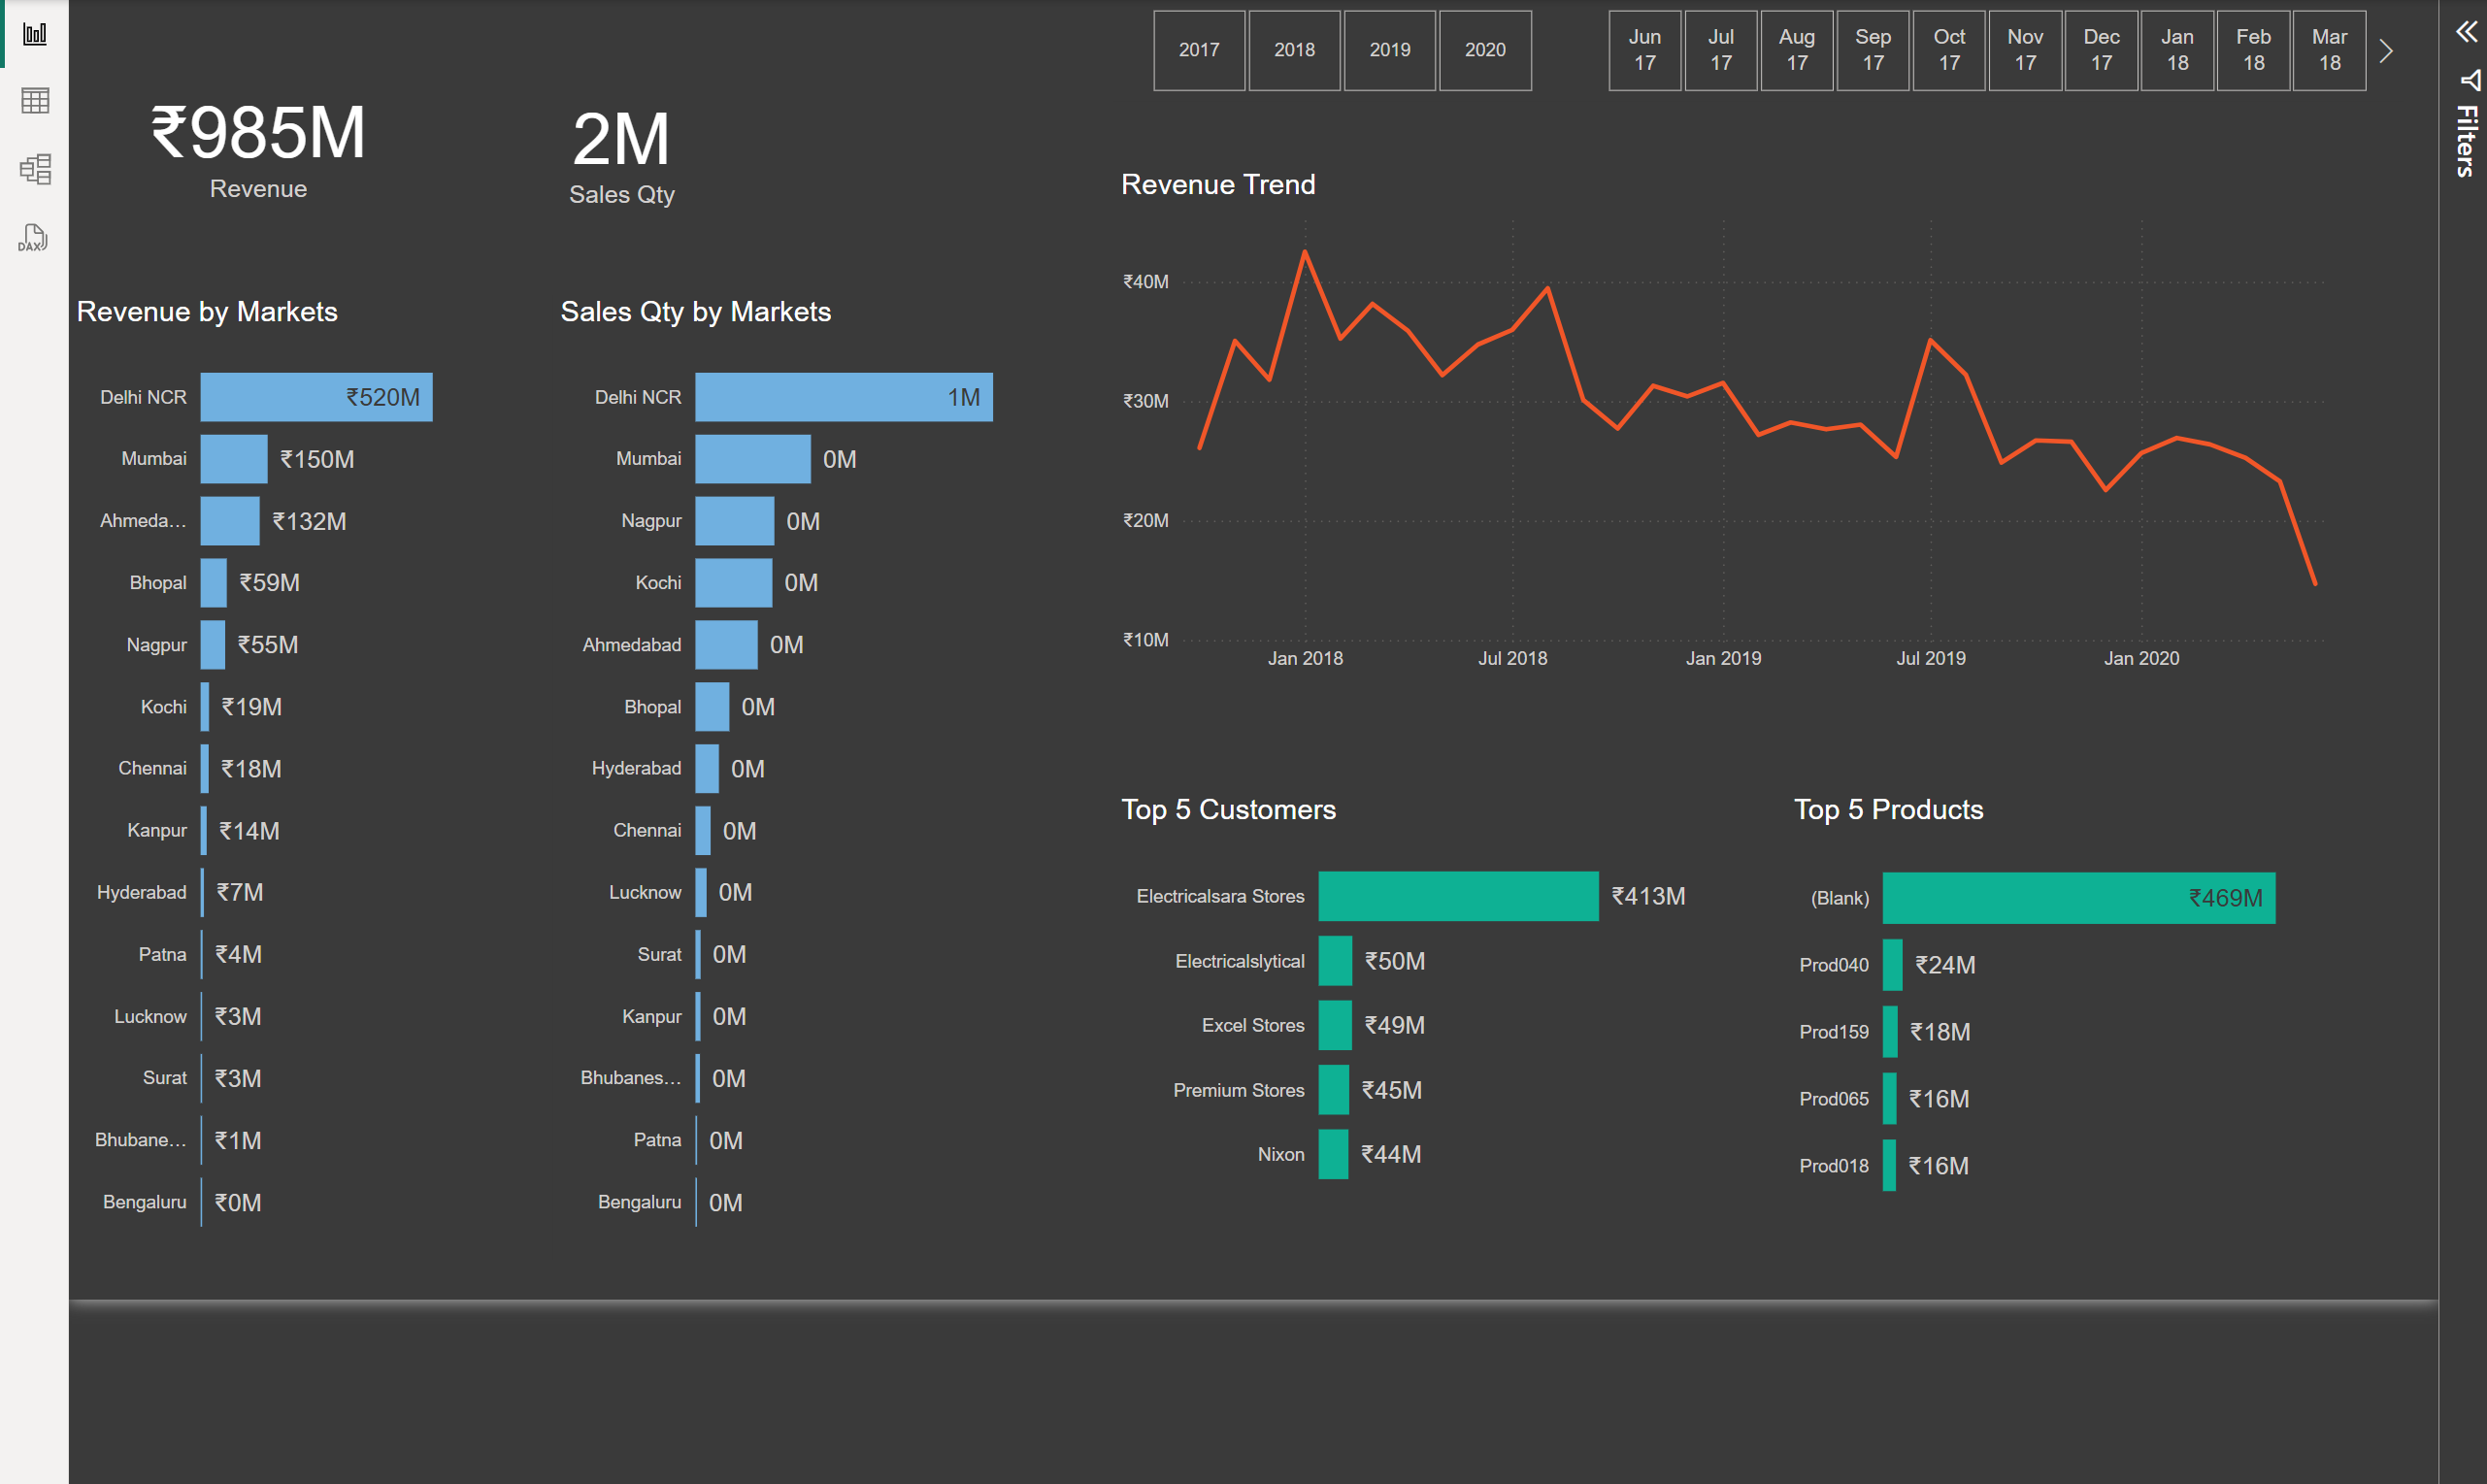

The dashboard page shown, as its layout file describes it:
{"tool":"powerbi","page":{"name":"Key Insights","canvas":[1550,850],"ordinal":0},"visuals":[{"type":"card","fields":{"Values":["BaseMeasures (2).Revenue"]},"box":[0,0,247.9,184.6],"z":0},{"type":"card","fields":{"Values":["BaseMeasures (2).Sales Qty"]},"box":[247.9,0,227.9,193.1],"z":1000},{"type":"barChart","title":"Revenue by Markets","fields":{"Y":["BaseMeasures (2).Revenue"],"Category":["sales markets.markets_name"]},"box":[0,193.8,292.4,630.7],"z":2000},{"type":"barChart","title":"Sales Qty by Markets","fields":{"Y":["BaseMeasures (2).Sales Qty"],"Category":["sales markets.markets_name"]},"box":[316.2,193.8,319.6,630.7],"z":3000},{"type":"slicer","fields":{"Values":["sales date.cy_date"]},"box":[980.9,0,545.7,66.3],"z":4000},{"type":"barChart","title":"Top 5 Customers","fields":{"Y":["BaseMeasures (2).Revenue"],"Category":["sales customers.custmer_name"]},"box":[683.4,518.5,384.2,275.4],"z":5000},{"type":"barChart","title":"Top 5 Products","fields":{"Y":["BaseMeasures (2).Revenue"],"Category":["sales products.product_code"]},"box":[1123.7,518.5,375.7,283.9],"z":6000},{"type":"lineChart","title":"Revenue Trend","fields":{"Y":["BaseMeasures (2).Revenue"],"Category":["sales date.cy_date"]},"box":[683.4,110.5,816,336.6],"z":7000},{"type":"slicer","fields":{"Values":["sales date.year"]},"box":[683.4,0,297.5,66.3],"z":8000}]}

Visuals, with their boxes on the page's 1550x850 design canvas (x1, y1, x2, y2). These are canvas units, not pixel positions in the 2487x1484 screenshot, which may show the page scaled, cropped or inside an application window:
card - BaseMeasures (2).Revenue: (0,0,248,185)
card - BaseMeasures (2).Sales Qty: (248,0,476,193)
"Revenue by Markets" barChart: (0,194,292,824)
"Sales Qty by Markets" barChart: (316,194,636,824)
slicer - sales date.cy_date: (981,0,1527,66)
"Top 5 Customers" barChart: (683,518,1068,794)
"Top 5 Products" barChart: (1124,518,1499,802)
"Revenue Trend" lineChart: (683,110,1499,447)
slicer - sales date.year: (683,0,981,66)
